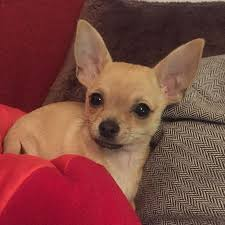chihuahua: (3, 17, 206, 159)
